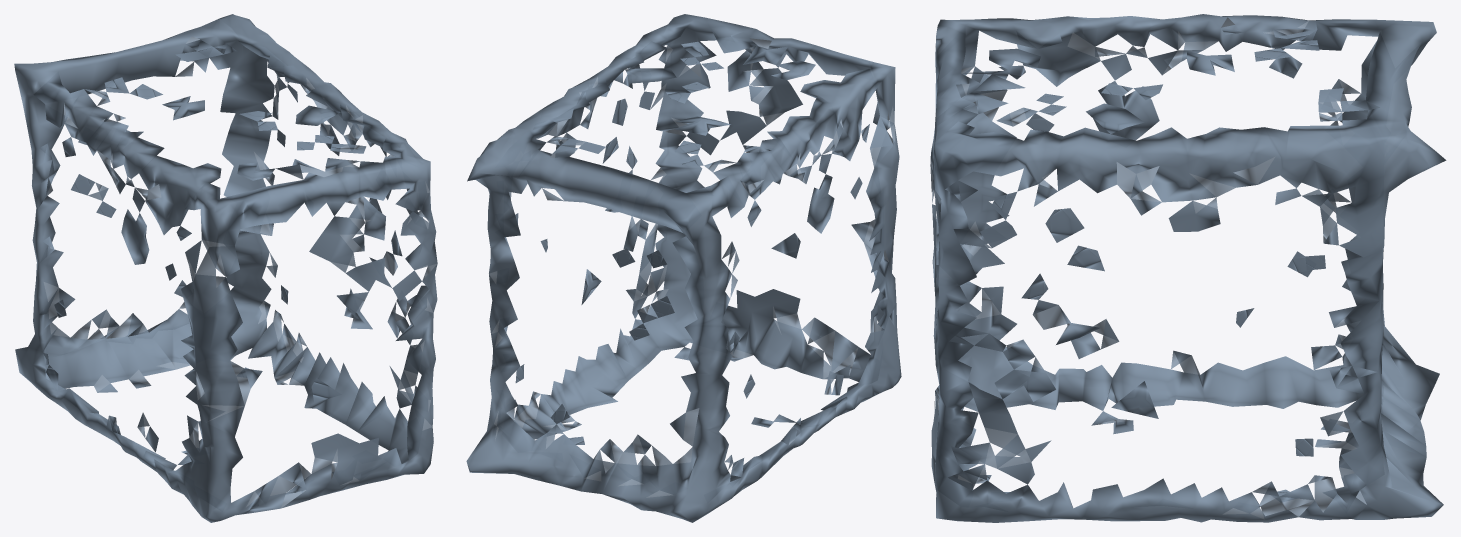
Rendered from sample_601_recon.obj.
3 renders of one model, left to right at view 1: azimuth 30°, elevation 25°; view 2: azimuth 150°, elevation 25°; view 3: azimuth 270°, elevation 25°, orthographic. The views are drawn at different scales.
Size of the model in its own units: 0.9025 by 1.19 by 1.43.
